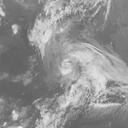cyclone: (43, 38, 95, 86)
